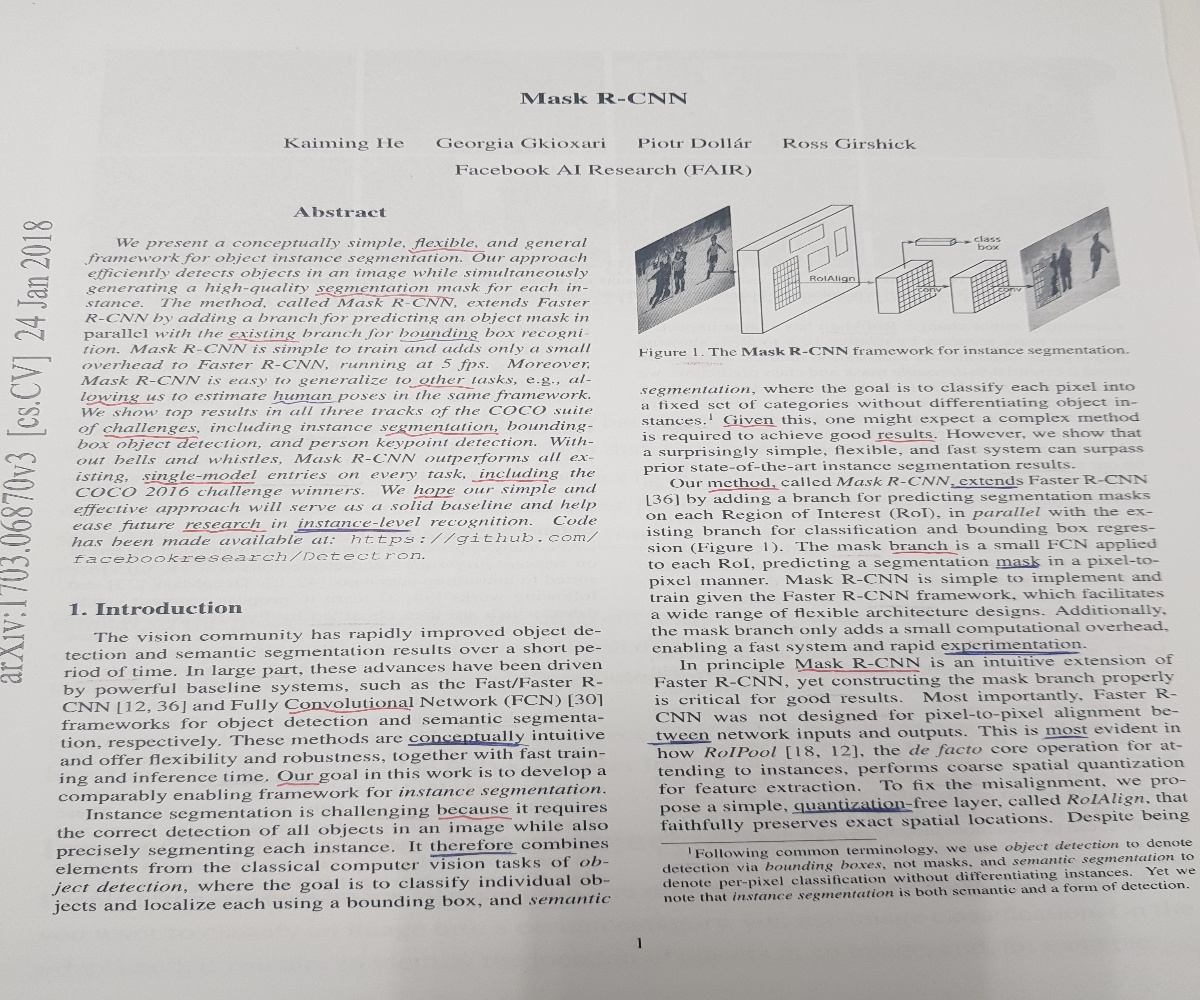underline: (312, 289, 453, 300), (793, 665, 922, 677), (938, 649, 1080, 659), (286, 706, 409, 717), (403, 739, 528, 749), (792, 807, 913, 817), (405, 245, 485, 259), (292, 526, 412, 535), (100, 430, 204, 440), (703, 485, 786, 497), (427, 850, 520, 860), (383, 429, 499, 437), (142, 478, 257, 486), (397, 335, 480, 346), (402, 382, 477, 394), (435, 813, 517, 823), (467, 476, 555, 485), (224, 336, 302, 346), (945, 483, 1020, 493), (179, 526, 267, 534), (82, 400, 157, 409), (273, 779, 325, 791), (647, 739, 715, 748), (267, 398, 341, 406), (887, 548, 958, 556), (720, 420, 776, 429), (872, 437, 937, 444), (993, 563, 1041, 572), (410, 492, 458, 500), (1040, 733, 1092, 739)
